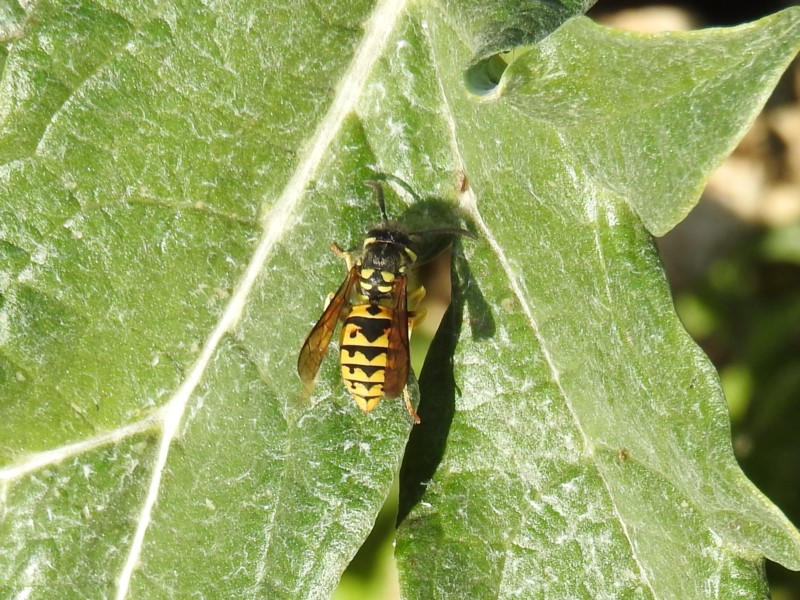chax: (284, 216, 455, 430)
